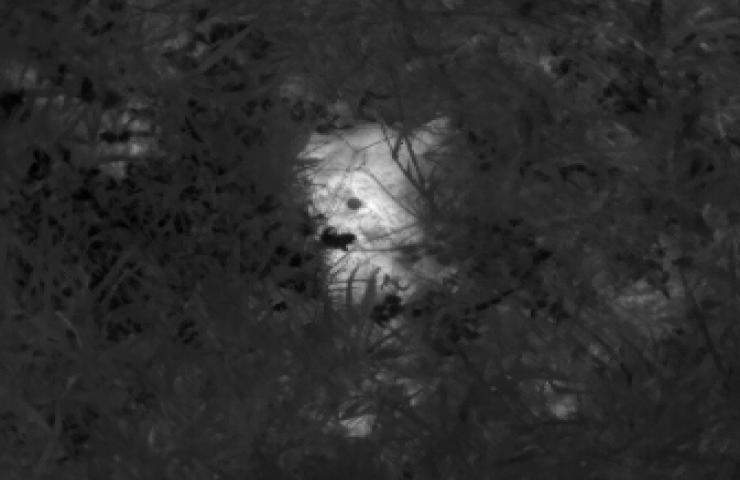landmines: (284, 99, 466, 320)
